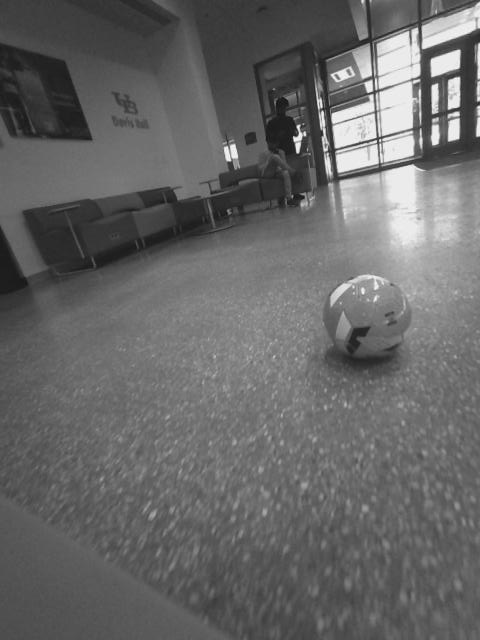ball: (310, 265, 417, 367)
